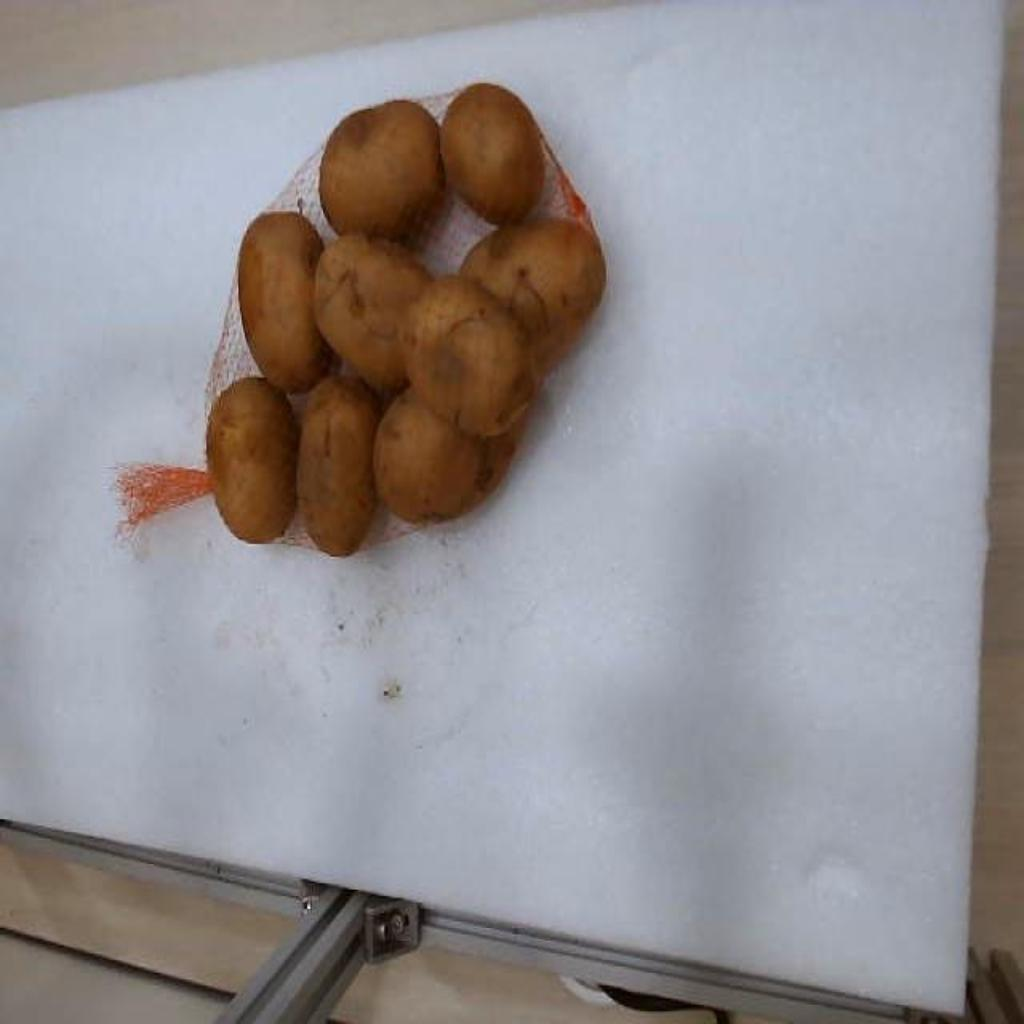potato: (460, 219, 606, 372), (404, 275, 538, 436), (376, 389, 514, 521), (318, 101, 444, 239), (316, 240, 428, 391), (238, 213, 332, 391), (206, 376, 298, 543), (296, 376, 380, 553), (440, 83, 544, 223)
